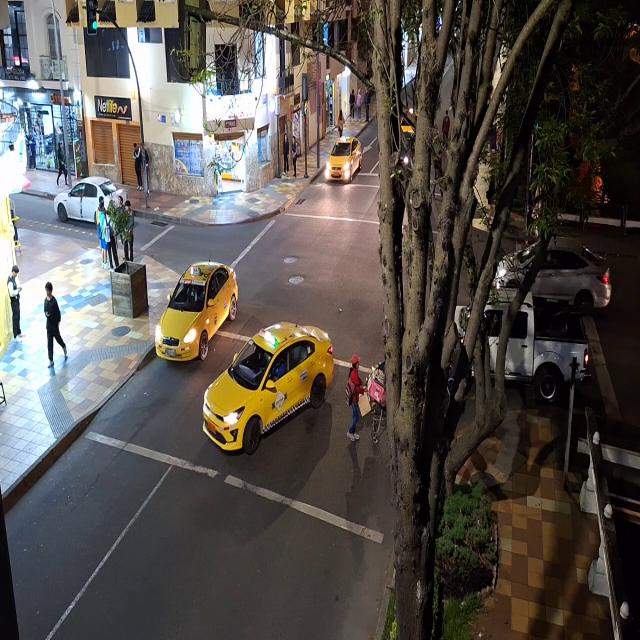CMT: (452, 301, 589, 396)
SED: (207, 325, 324, 444), (497, 244, 612, 307), (161, 264, 228, 358), (54, 180, 125, 226), (329, 140, 359, 182)
